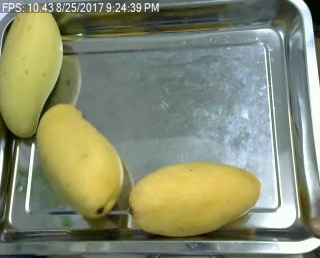Mango: (35, 101, 125, 219), (128, 161, 260, 239), (0, 3, 63, 136)
